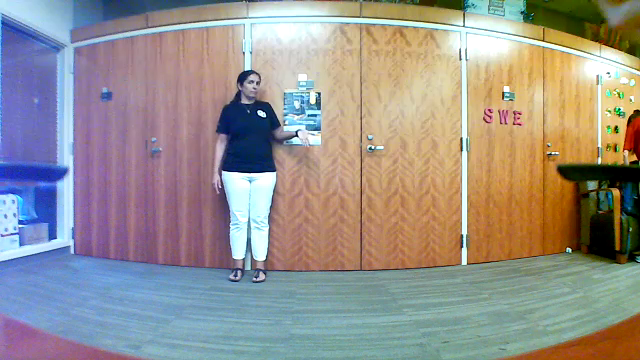land: (291, 126, 322, 154)
